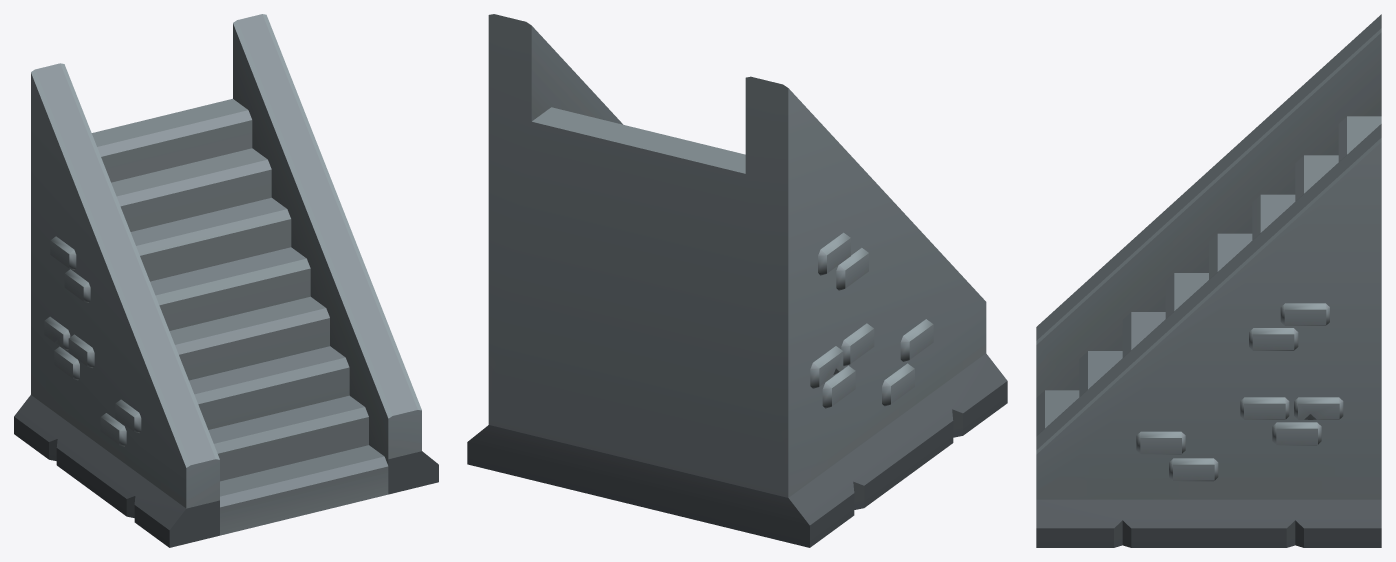
The model's file is stairs-narrow-gltf.glb.
3 renders of one model, left to right at view 1: azimuth 30°, elevation 25°; view 2: azimuth 150°, elevation 25°; view 3: azimuth 270°, elevation 25°, orthographic. The views are drawn at different scales.
Parts seen in each view (by area): view 1: stairs_narrow; view 2: stairs_narrow; view 3: stairs_narrow.
Boxes of the visible parts, x1,y1,x2,y2 form: stairs_narrow: (14,14,438,547); stairs_narrow: (467,14,1007,547); stairs_narrow: (1036,14,1381,547).
Size of the model in its own units: 4 by 5.1 by 4.
1 material, 1 textured.
